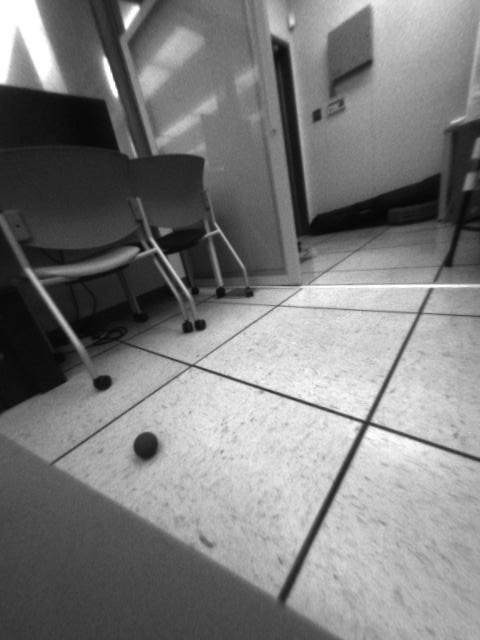dogtoy: (127, 424, 167, 466)
